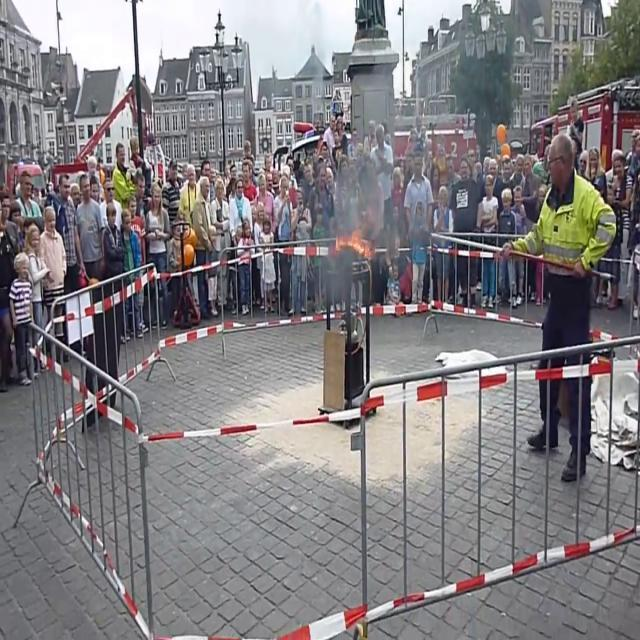Fire: (336, 227, 374, 262)
Smoke: (316, 132, 401, 294)
